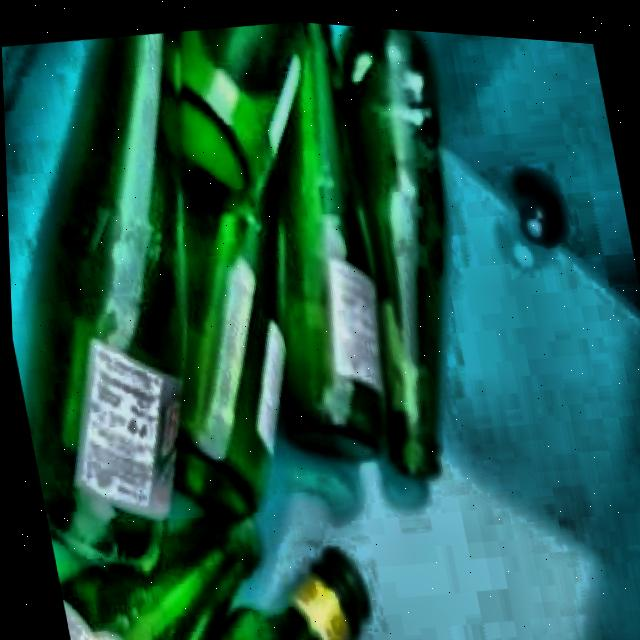glass: (25, 17, 443, 640)
